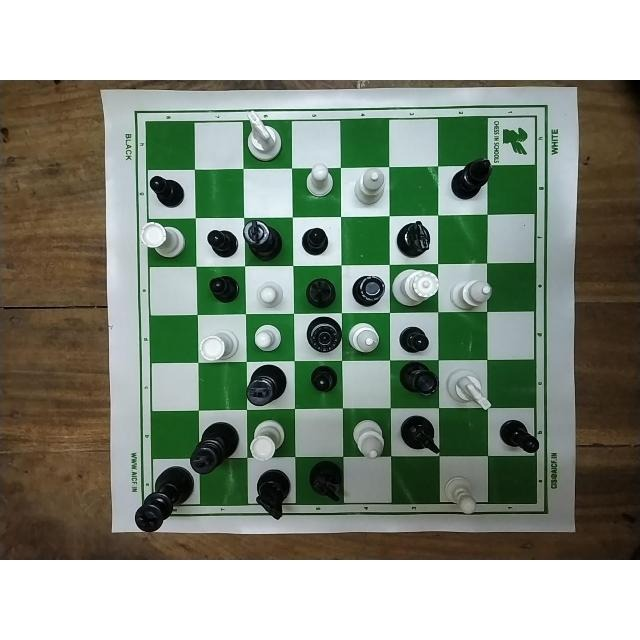black-bishop: (439, 158, 491, 214), (296, 266, 340, 312)
black-king: (133, 467, 191, 529), (191, 410, 240, 473), (242, 218, 291, 263), (247, 363, 290, 407)
black-knight: (248, 463, 295, 519), (392, 408, 442, 456), (389, 217, 436, 263), (303, 459, 343, 511)
black-pawn: (148, 171, 193, 217), (392, 314, 439, 358), (492, 412, 540, 455), (296, 219, 340, 263), (198, 219, 238, 267), (298, 364, 341, 408), (198, 272, 242, 314)
black-queen: (296, 316, 342, 359)
black-rook: (392, 363, 438, 405), (345, 266, 388, 310)
white-bishop: (444, 264, 492, 311), (342, 167, 390, 213), (346, 409, 389, 459), (346, 316, 385, 360)
white-knight: (243, 112, 290, 167), (447, 360, 491, 410)
white-pawn: (442, 464, 486, 516), (293, 165, 336, 215), (247, 269, 290, 313), (248, 317, 292, 357)
white-queen: (395, 265, 437, 311)
white-rook: (142, 218, 194, 266), (250, 412, 294, 460), (198, 319, 242, 363)
